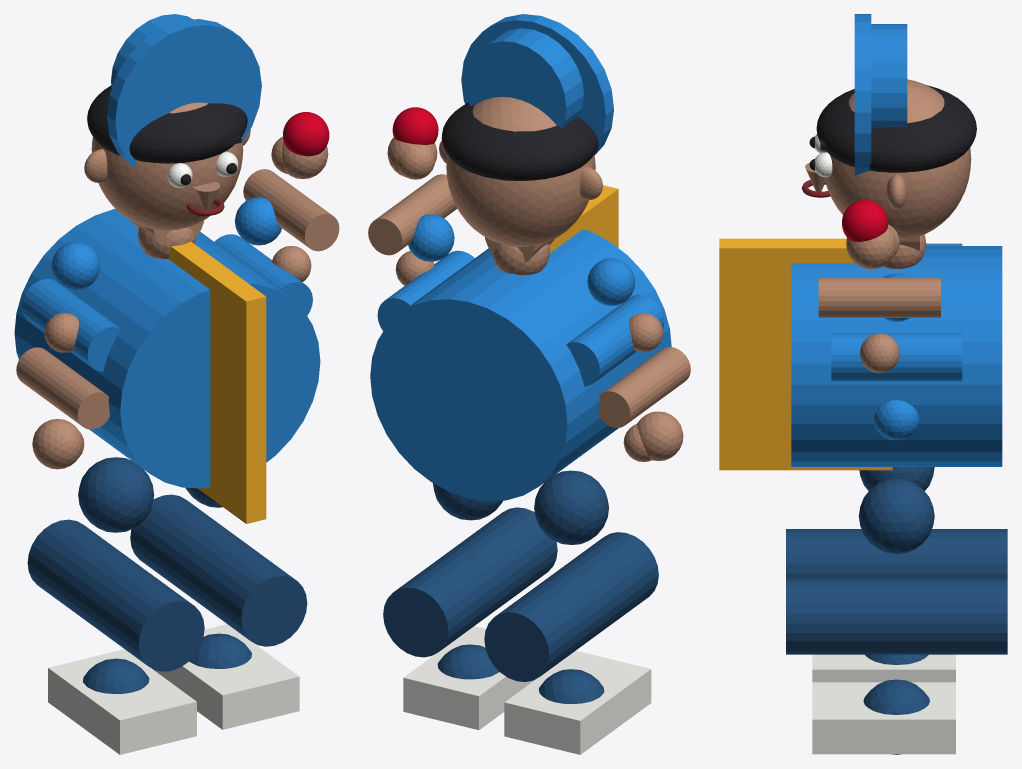
Rendered from bowler.glb.
3 renders of one model, left to right at view 1: azimuth 30°, elevation 25°; view 2: azimuth 150°, elevation 25°; view 3: azimuth 270°, elevation 25°, orthographic.
Parts seen in each view (by area): view 1: Jersey, JerseyOrangeStripe, LeftLegBody, RightLegBody, CapBrim, Shoe-0.28, Shoe0.28, Head, Hair, LeftLegTop, SupportForearmBody, SupportUpperArmBody (+14 smaller); view 2: Jersey, LeftLegBody, RightLegBody, Head, Shoe-0.28, CapTop, Hair, Shoe0.28, CapBrim, LeftLegTop, SupportForearmBody, SupportUpperArmBody (+17 smaller); view 3: Jersey, JerseyOrangeStripe, RightLegBody, LeftLegBody, Shoe0.28, Head, Hair, BowlingUpperArmBody, BowlingForearmBody, RightLegTop, CapTop, Shoe-0.28 (+10 smaller).
Boxes of the visible parts, box(x1,y1,x2,y2) form: Jersey: box(14, 208, 320, 488); JerseyOrangeStripe: box(168, 241, 266, 523); LeftLegBody: box(27, 519, 204, 671); RightLegBody: box(130, 494, 307, 646); CapBrim: box(107, 19, 261, 168); Shoe-0.28: box(48, 649, 196, 754); Shoe0.28: box(152, 624, 299, 729); Head: box(91, 102, 243, 230); Hair: box(87, 85, 247, 163); LeftLegTop: box(78, 457, 154, 532); SupportForearmBody: box(16, 347, 109, 429); SupportUpperArmBody: box(22, 279, 121, 371); Jersey: box(370, 229, 671, 501); LeftLegBody: box(484, 532, 658, 681); RightLegBody: box(383, 507, 557, 657); Head: box(446, 97, 595, 246); Shoe-0.28: box(504, 650, 651, 754); CapTop: box(465, 28, 583, 128); Hair: box(441, 102, 598, 180); Shoe0.28: box(403, 626, 535, 729); CapBrim: box(461, 14, 613, 155); LeftLegTop: box(534, 470, 608, 544); SupportForearmBody: box(598, 347, 690, 427); SupportUpperArmBody: box(566, 294, 664, 386); Jersey: box(791, 246, 1002, 466); JerseyOrangeStripe: box(719, 238, 892, 470); RightLegBody: box(786, 579, 1007, 654); LeftLegBody: box(786, 529, 1007, 578); Shoe0.28: box(812, 682, 955, 754); Head: box(822, 79, 971, 239); Hair: box(816, 85, 976, 172); BowlingUpperArmBody: box(831, 333, 962, 381); BowlingForearmBody: box(818, 278, 940, 317); RightLegTop: box(858, 478, 934, 553); CapTop: box(871, 24, 907, 128); Shoe-0.28: box(812, 654, 955, 682).
Size of the model in its own units: 1.59 by 3.68 by 1.36.
